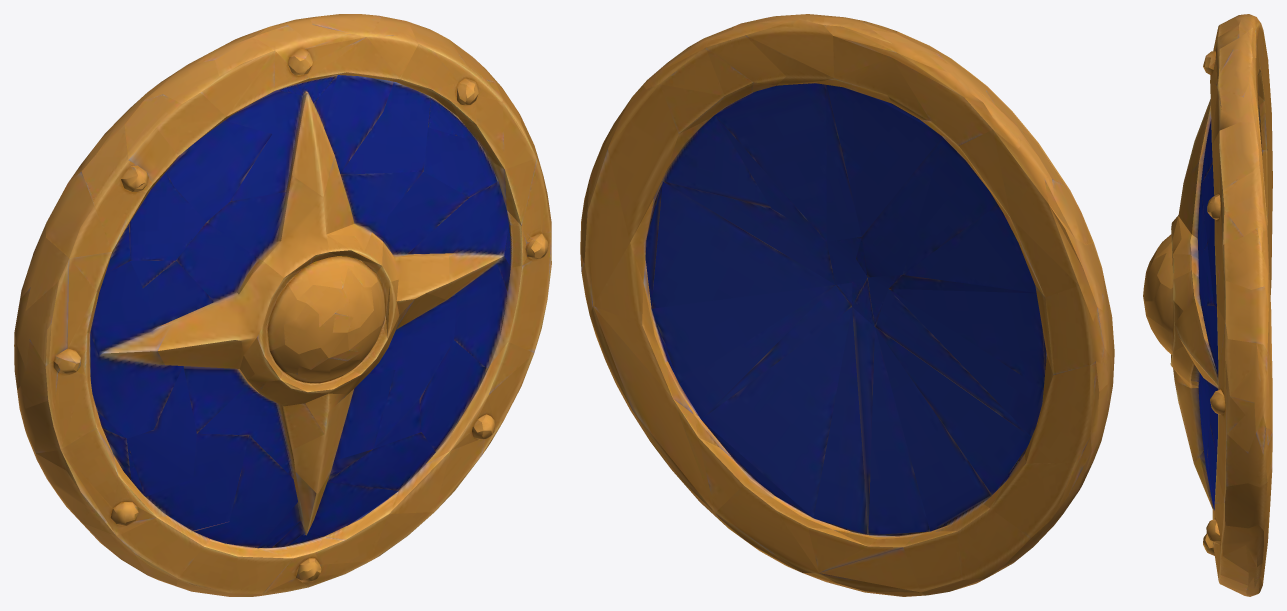
File: scudo.glb
The picture shows the model from 3 angles, left to right: view 1: azimuth 30°, elevation 25°; view 2: azimuth 150°, elevation 25°; view 3: azimuth 270°, elevation 25°; orthographic projection. The views are drawn at different scales.
Size of the model in its own units: 1.86 by 1.9 by 0.4207.
1 material, 1 textured.
